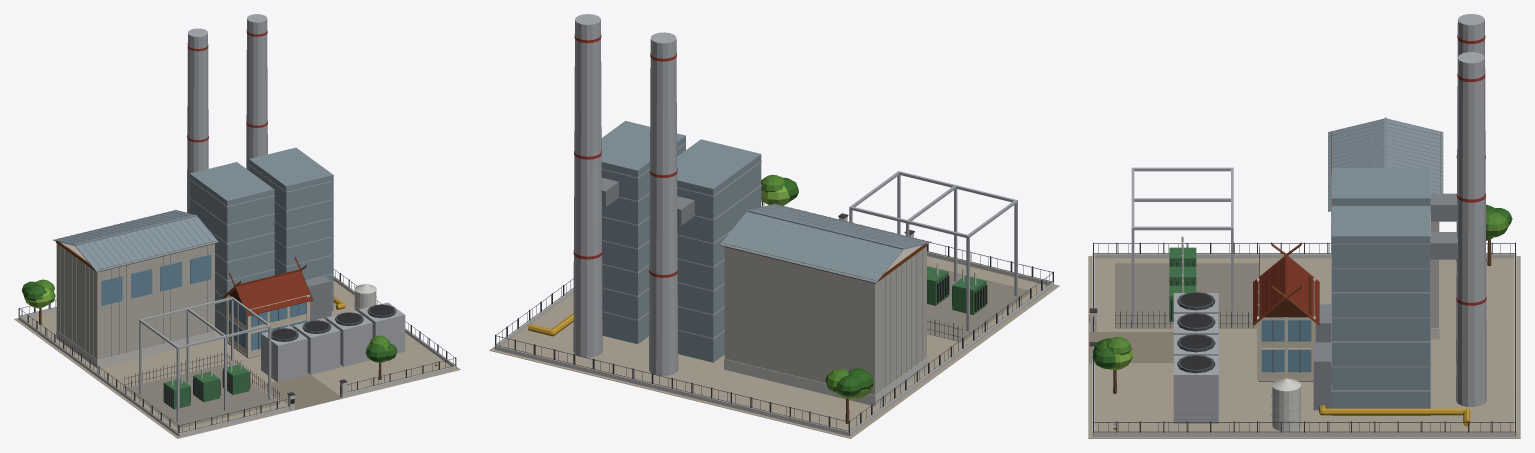
File: power_plant.glb
3 renders of one model, left to right at view 1: azimuth 30°, elevation 25°; view 2: azimuth 150°, elevation 25°; view 3: azimuth 270°, elevation 25°, orthographic. The views are drawn at different scales.
Visible parts, largest first — view 1: body; view 2: body; view 3: body.
Part boxes in pixels (bbox=[...]): body: bbox=[14, 14, 460, 438]; body: bbox=[489, 14, 1059, 438]; body: bbox=[1088, 14, 1520, 438].
Bounding box in the file's own units: 48.28 × 42.15 × 47.9.
